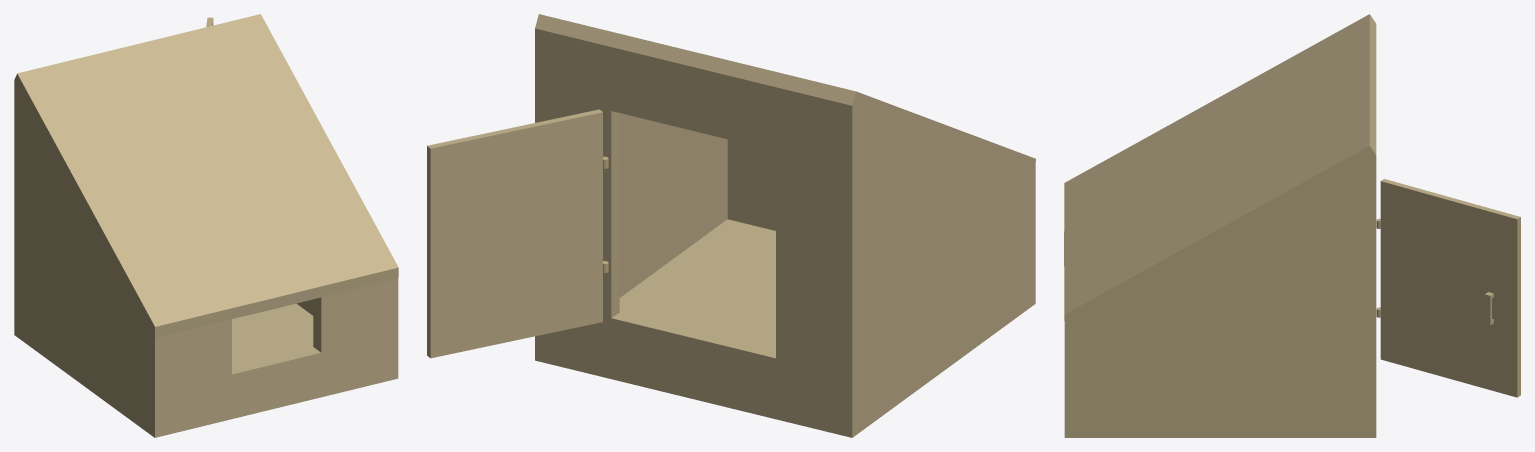
The model's file is boxNest.glb.
3 renders of one model, left to right at view 1: azimuth 30°, elevation 25°; view 2: azimuth 150°, elevation 25°; view 3: azimuth 270°, elevation 25°, orthographic. The views are drawn at different scales.
Parts seen in each view (by area): view 1: coop Coop_door; view 2: coop Coop_door, Coop_door door; view 3: coop Coop_door, Coop_door door.
Part boxes in pixels (box(x1,y1,x2,y2)): coop Coop_door: box(14, 14, 398, 437); coop Coop_door: box(535, 14, 1035, 437); Coop_door door: box(427, 109, 602, 358); coop Coop_door: box(1064, 14, 1380, 437); Coop_door door: box(1380, 179, 1520, 397).
Size of the model in its own units: 0.0512 by 0.0492 by 0.0696.
Materials: 2 (2 with a texture image).
